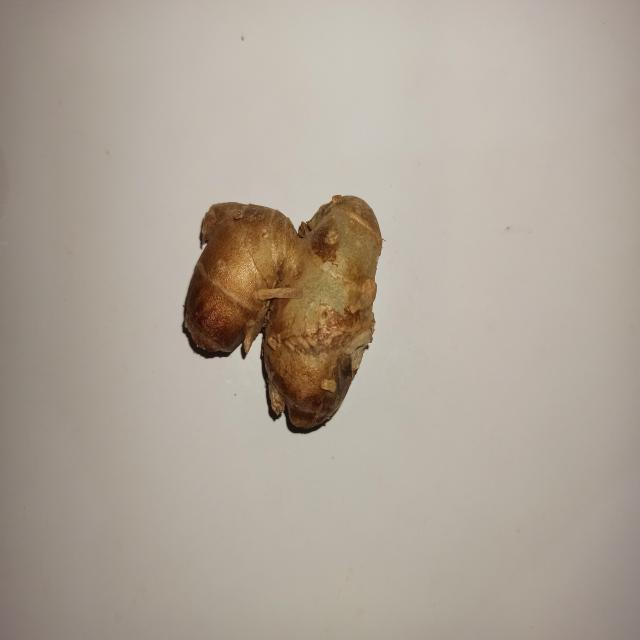ginger: (189, 190, 384, 421)
